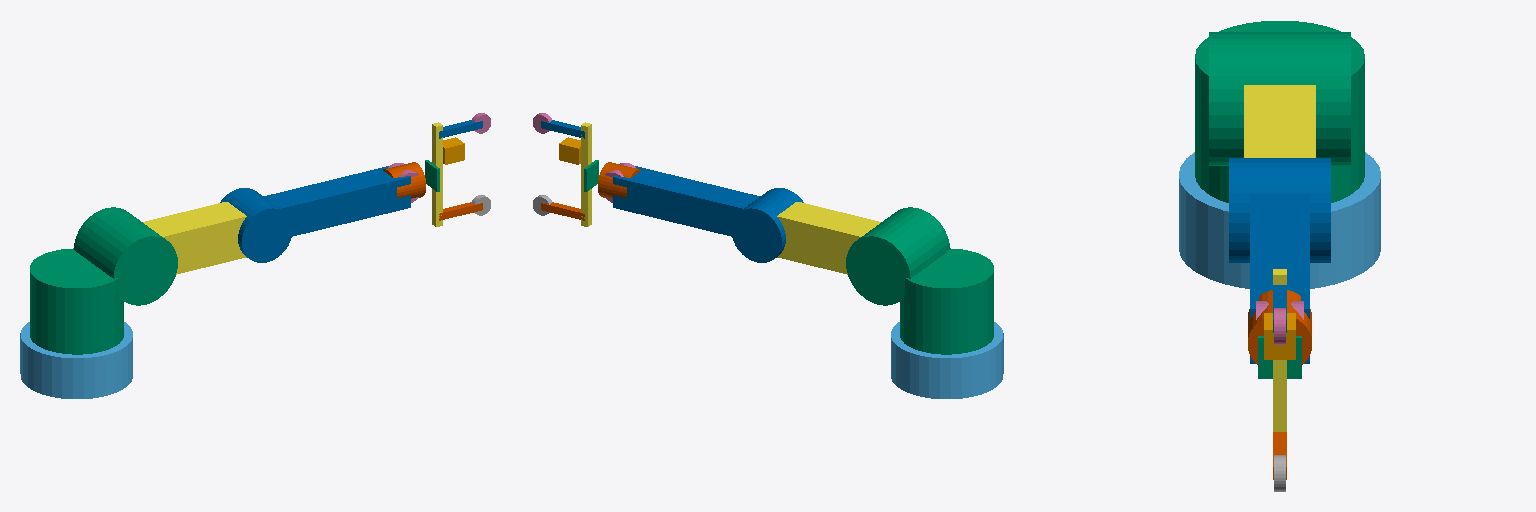
robot.urdf — kr480_r3330_mt:
<?xml version="1.0"?>
<robot name="kr480_r3330_mt" xmlns:tesseract="https://github.com/tesseract-robotics/tesseract" tesseract:make_convex="true">
  <link name="world"/>
  <joint name="world-base" type="fixed"><parent link="world"/><child link="base_link"/><origin xyz="0 0 0" rpy="0 0 0"/></joint>
  <link name="base_link"><collision><origin xyz="0 0 0.20" rpy="0 0 0"/><geometry><cylinder radius="0.5" length="0.4"/></geometry></collision><visual><origin xyz="0 0 0.20" rpy="0 0 0"/><geometry><cylinder radius="0.5" length="0.4"/></geometry></visual></link>
  <link name="link_1"><collision><origin xyz="0 0 -0.5225" rpy="0 0 0"/><geometry><cylinder radius="0.42" length="1.045"/></geometry></collision><visual><origin xyz="0 0 -0.5225" rpy="0 0 0"/><geometry><cylinder radius="0.42" length="1.045"/></geometry></visual><collision><origin xyz="0.5 0 0" rpy="1.5707963267948966 0 0"/><geometry><cylinder radius="0.33" length="0.7"/></geometry></collision><visual><origin xyz="0.5 0 0" rpy="1.5707963267948966 0 0"/><geometry><cylinder radius="0.33" length="0.7"/></geometry></visual></link>
  <link name="link_2"><collision><origin xyz="0.65 0 0" rpy="0 0 0"/><geometry><box size="1.3 0.36 0.4"/></geometry></collision><visual><origin xyz="0.65 0 0" rpy="0 0 0"/><geometry><box size="1.3 0.36 0.4"/></geometry></visual></link>
  <link name="link_3"><collision><origin xyz="0.7625 0 0.0275" rpy="0 0 0"/><geometry><box size="1.525 0.3 0.3"/></geometry></collision><visual><origin xyz="0.7625 0 0.0275" rpy="0 0 0"/><geometry><box size="1.525 0.3 0.3"/></geometry></visual><collision><origin xyz="0 0 0" rpy="1.5707963267948966 0 0"/><geometry><cylinder radius="0.26" length="0.5"/></geometry></collision><visual><origin xyz="0 0 0" rpy="1.5707963267948966 0 0"/><geometry><cylinder radius="0.26" length="0.5"/></geometry></visual></link>
  <link name="link_4"><collision><origin xyz="0 0 0" rpy="0 1.5707963267948966 0"/><geometry><cylinder radius="0.16" length="0.3"/></geometry></collision><visual><origin xyz="0 0 0" rpy="0 1.5707963267948966 0"/><geometry><cylinder radius="0.16" length="0.3"/></geometry></visual></link>
  <link name="link_5"><collision><origin xyz="0 0 0" rpy="1.5707963267948966 0 0"/><geometry><cylinder radius="0.15" length="0.24"/></geometry></collision><visual><origin xyz="0 0 0" rpy="1.5707963267948966 0 0"/><geometry><cylinder radius="0.15" length="0.24"/></geometry></visual></link>
  <link name="link_6"><collision><origin xyz="0.06 0 0" rpy="0 1.5707963267948966 0"/><geometry><cylinder radius="0.13" length="0.12"/></geometry></collision><visual><origin xyz="0.06 0 0" rpy="0 1.5707963267948966 0"/><geometry><cylinder radius="0.13" length="0.12"/></geometry></visual></link>
  <link name="flange"></link>
  <link name="tool0"></link>
  <joint name="joint_a1" type="revolute"><parent link="base_link"/><child link="link_1"/><origin xyz="0 0 1.045" rpy="0 0 0"/><axis xyz="0 0 -1"/><limit effort="0" lower="-3.228859" upper="3.228859" velocity="1.570796"/></joint>
  <joint name="joint_a2" type="revolute"><parent link="link_1"/><child link="link_2"/><origin xyz="0.5 0 0" rpy="0 0 0"/><axis xyz="0 1 0"/><limit effort="0" lower="-2.268928" upper="0.349066" velocity="1.396263"/></joint>
  <joint name="joint_a3" type="revolute"><parent link="link_2"/><child link="link_3"/><origin xyz="1.3 0 0" rpy="0 0 0"/><axis xyz="0 1 0"/><limit effort="0" lower="-1.745329" upper="2.513274" velocity="1.308997"/></joint>
  <joint name="joint_a4" type="revolute"><parent link="link_3"/><child link="link_4"/><origin xyz="1.525 0 0.055" rpy="0 0 0"/><axis xyz="-1 0 0"/><limit effort="0" lower="-6.108652" upper="6.108652" velocity="1.570796"/></joint>
  <joint name="joint_a5" type="revolute"><parent link="link_4"/><child link="link_5"/><origin xyz="0 0 0" rpy="0 0 0"/><axis xyz="0 1 0"/><limit effort="0" lower="-2.094395" upper="2.094395" velocity="1.448623"/></joint>
  <joint name="joint_a6" type="revolute"><parent link="link_5"/><child link="link_6"/><origin xyz="0 0 0" rpy="0 0 0"/><axis xyz="-1 0 0"/><limit effort="0" lower="-6.108652" upper="6.108652" velocity="2.268928"/></joint>
  <joint name="joint_a6-flange" type="fixed"><parent link="link_6"/><child link="flange"/><origin xyz="0.29 0 0" rpy="0 0 0"/></joint>
  <joint name="flange-tool0" type="fixed"><parent link="flange"/><child link="tool0"/><origin xyz="0 0 0" rpy="0 1.5707963267948966 0"/></joint>
  <link name="wiresaw_plate"><visual><origin xyz="0 0 0.015" rpy="0 0 0"/><geometry><box size="0.22 0.22 0.03"/></geometry></visual><collision><origin xyz="0 0 0.015" rpy="0 0 0"/><geometry><box size="0.22 0.22 0.03"/></geometry></collision></link>
  <joint name="tool0-wiresaw_plate" type="fixed"><parent link="tool0"/><child link="wiresaw_plate"/><origin xyz="0 0 0" rpy="0 0 0"/></joint>
  <link name="wiresaw_beam"><visual><origin xyz="0 0 0.065" rpy="0 0 0"/><geometry><box size="0.98 0.07 0.07"/></geometry></visual><collision><origin xyz="0 0 0.065" rpy="0 0 0"/><geometry><box size="0.98 0.07 0.07"/></geometry></collision></link>
  <joint name="tool0-wiresaw_beam" type="fixed"><parent link="tool0"/><child link="wiresaw_beam"/><origin xyz="0 0 0" rpy="0 0 0"/></joint>
  <link name="wiresaw_arm_a"><visual><origin xyz="-0.4 0 0.2875" rpy="0 0 0"/><geometry><box size="0.07 0.07 0.445"/></geometry></visual><collision><origin xyz="-0.4 0 0.2875" rpy="0 0 0"/><geometry><box size="0.07 0.07 0.445"/></geometry></collision></link>
  <joint name="tool0-wiresaw_arm_a" type="fixed"><parent link="tool0"/><child link="wiresaw_arm_a"/><origin xyz="0 0 0" rpy="0 0 0"/></joint>
  <link name="wiresaw_arm_b"><visual><origin xyz="0.4 0 0.2875" rpy="0 0 0"/><geometry><box size="0.07 0.07 0.445"/></geometry></visual><collision><origin xyz="0.4 0 0.2875" rpy="0 0 0"/><geometry><box size="0.07 0.07 0.445"/></geometry></collision></link>
  <joint name="tool0-wiresaw_arm_b" type="fixed"><parent link="tool0"/><child link="wiresaw_arm_b"/><origin xyz="0 0 0" rpy="0 0 0"/></joint>
  <link name="wiresaw_pulley_a"><visual><origin xyz="-0.4 0 0.51" rpy="1.5707963267948966 0 0"/><geometry><cylinder radius="0.09" length="0.05600000000000001"/></geometry></visual><collision><origin xyz="-0.4 0 0.51" rpy="1.5707963267948966 0 0"/><geometry><cylinder radius="0.09" length="0.05600000000000001"/></geometry></collision></link>
  <joint name="tool0-wiresaw_pulley_a" type="fixed"><parent link="tool0"/><child link="wiresaw_pulley_a"/><origin xyz="0 0 0" rpy="0 0 0"/></joint>
  <link name="wiresaw_pulley_b"><visual><origin xyz="0.4 0 0.51" rpy="1.5707963267948966 0 0"/><geometry><cylinder radius="0.09" length="0.05600000000000001"/></geometry></visual><collision><origin xyz="0.4 0 0.51" rpy="1.5707963267948966 0 0"/><geometry><cylinder radius="0.09" length="0.05600000000000001"/></geometry></collision></link>
  <joint name="tool0-wiresaw_pulley_b" type="fixed"><parent link="tool0"/><child link="wiresaw_pulley_b"/><origin xyz="0 0 0" rpy="0 0 0"/></joint>
  <link name="wiresaw_motor"><visual><origin xyz="-0.2 0 0.2" rpy="0 0 0"/><geometry><box size="0.16 0.16 0.2"/></geometry></visual><collision><origin xyz="-0.2 0 0.2" rpy="0 0 0"/><geometry><box size="0.16 0.16 0.2"/></geometry></collision></link>
  <joint name="tool0-wiresaw_motor" type="fixed"><parent link="tool0"/><child link="wiresaw_motor"/><origin xyz="0 0 0" rpy="0 0 0"/></joint>
</robot>

--- Render facts (derived) ---
Views: 3 orthographic renders of the robot side by side, from view 1: azimuth 30°, elevation 25°; view 2: azimuth 150°, elevation 25°; view 3: azimuth 270°, elevation 25°.
Robot: kr480_r3330_mt — 17 links, 16 joints (6 revolute, 10 fixed); root link world; default pose: every joint at zero.
Visible links, largest first — view 1: link_1, link_3, base_link, link_2, wiresaw_beam, link_4; view 2: link_1, link_3, base_link, link_2, wiresaw_beam, link_4; view 3: link_1, link_3, base_link, link_2, link_4, wiresaw_beam, wiresaw_motor, wiresaw_plate.
Boxes of the visible links, x1,y1,x2,y2 form: link_1: (30,207,177,354); link_3: (220,166,410,262); base_link: (20,322,132,398); link_2: (143,202,246,274); wiresaw_beam: (432,122,442,226); link_4: (383,162,425,198); link_1: (846,207,993,354); link_3: (613,166,803,262); base_link: (891,322,1003,398); link_2: (777,202,880,274); wiresaw_beam: (581,122,591,226); link_4: (598,162,640,198); link_1: (1195,21,1364,202); link_3: (1229,158,1330,363); base_link: (1179,152,1380,288); link_2: (1244,85,1315,157); link_4: (1248,290,1311,364); wiresaw_beam: (1273,269,1286,431); wiresaw_motor: (1264,313,1295,359); wiresaw_plate: (1258,336,1301,378).
Size in the robot's own frame: 4.71 by 1 by 1.59 metres.
Geometry: primitives only (box / cylinder / sphere), no mesh files.
